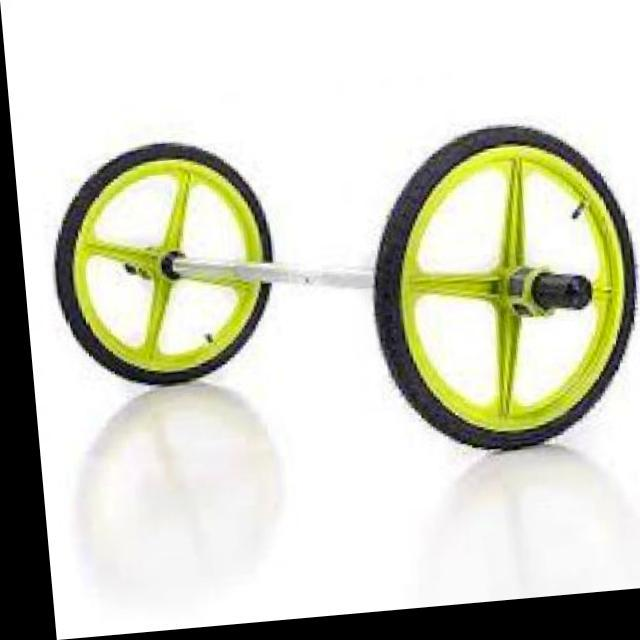barbell: (354, 117, 640, 474)
